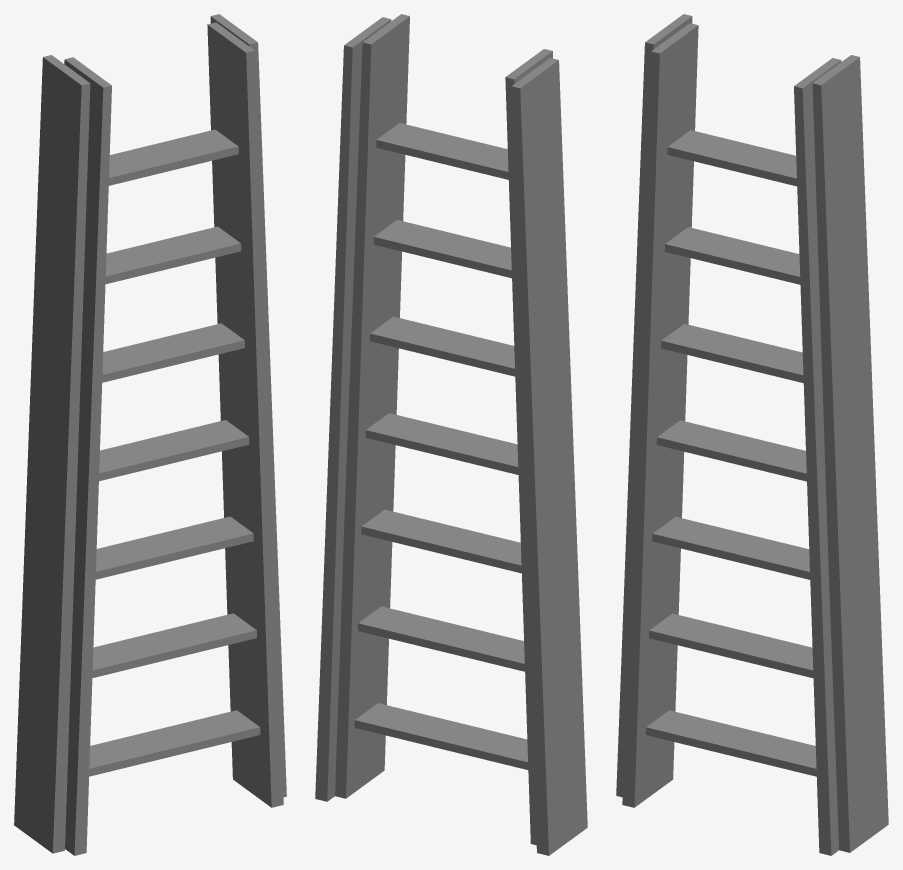
The model's file is SM_ladder_short.fbx.
3 views of the same model, side by side, from view 1: azimuth 30°, elevation 25°; view 2: azimuth 150°, elevation 25°; view 3: azimuth 330°, elevation 25° (orthographic).
Parts seen in each view (by area): view 1: ladder_short; view 2: ladder_short; view 3: ladder_short.
Part boxes in pixels (x1,y1,x2,y2): ladder_short: (14,14,286,855); ladder_short: (315,14,587,855); ladder_short: (616,14,888,855).
Size of the model in its own units: 59.45 by 185 by 20.47.
